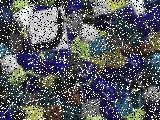Left: (28, 6, 68, 54)
